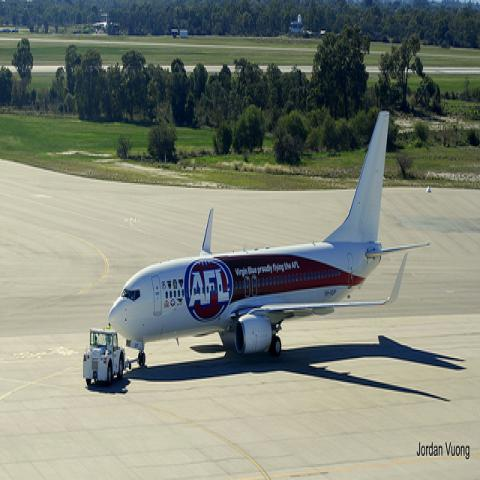truck: (83, 327, 126, 386)
